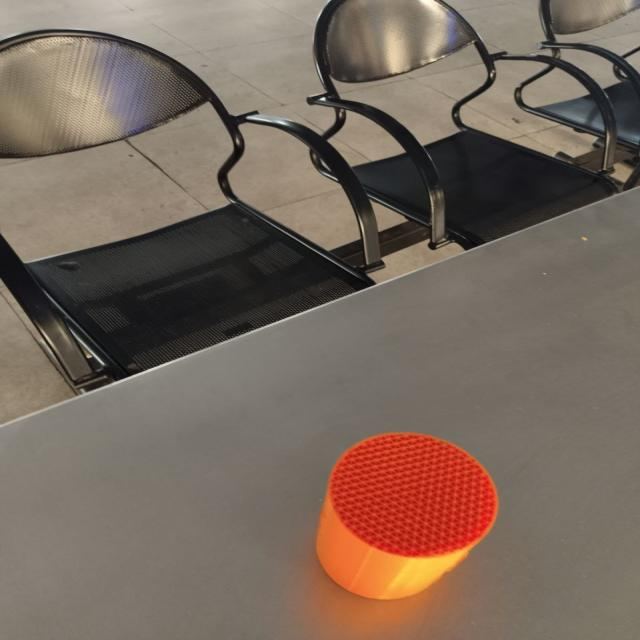Cylinder: (314, 430, 499, 600)
